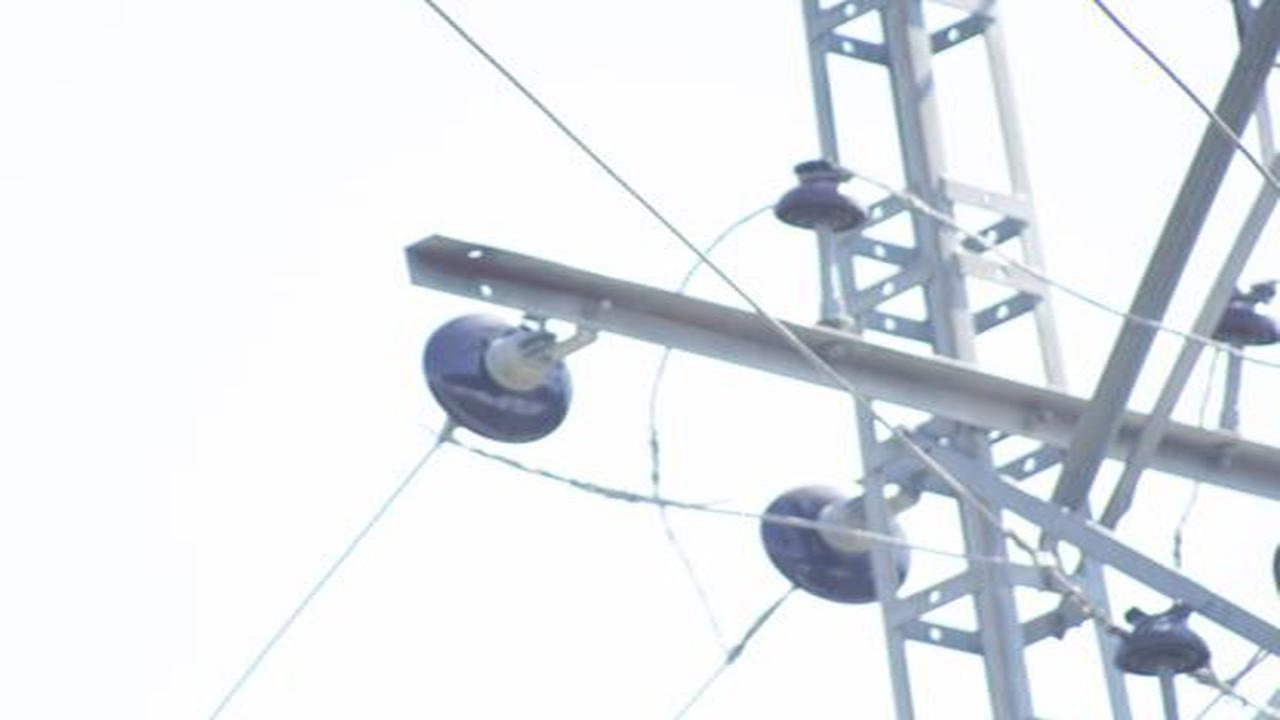insulator_disc: (422, 307, 578, 447), (761, 481, 916, 606)
insulator_pin: (1113, 601, 1217, 682), (774, 157, 868, 235), (1213, 277, 1271, 353)
